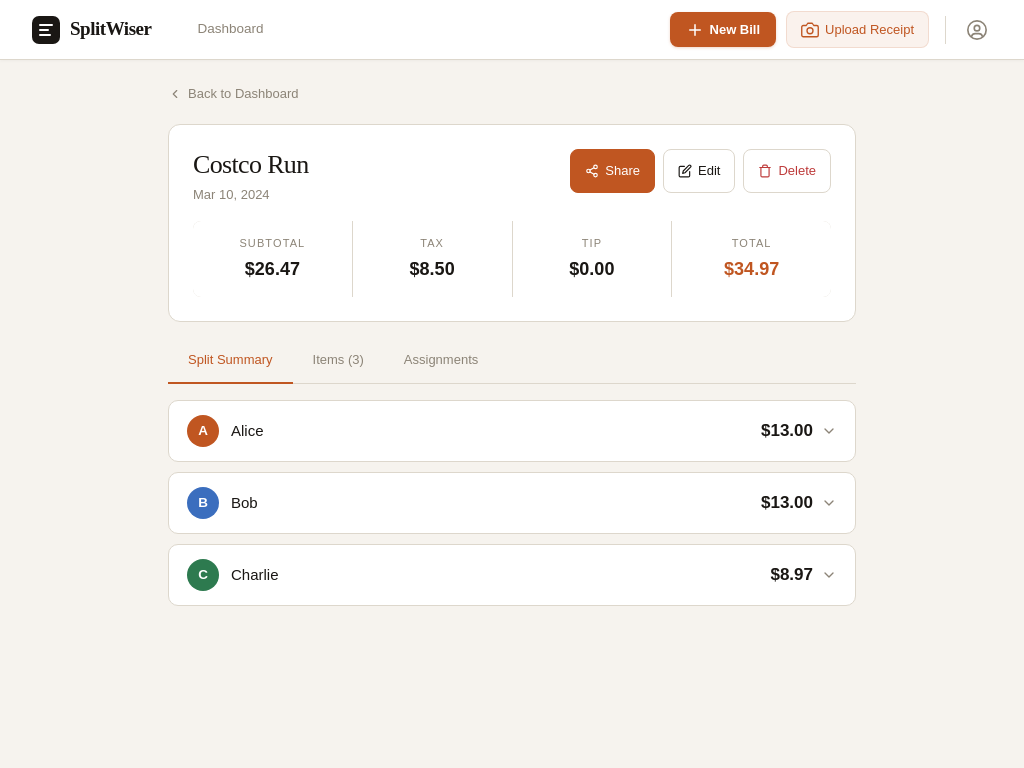
Test: Bill Detail Page › switches to Items tab and shows item list
Check: the heading "Costco Run" is shown, box [193,149,309,181]
// Items tab should show count
Click the button "Items (3)" at {"x": 338, "y": 361}, box [292,338,384,384]
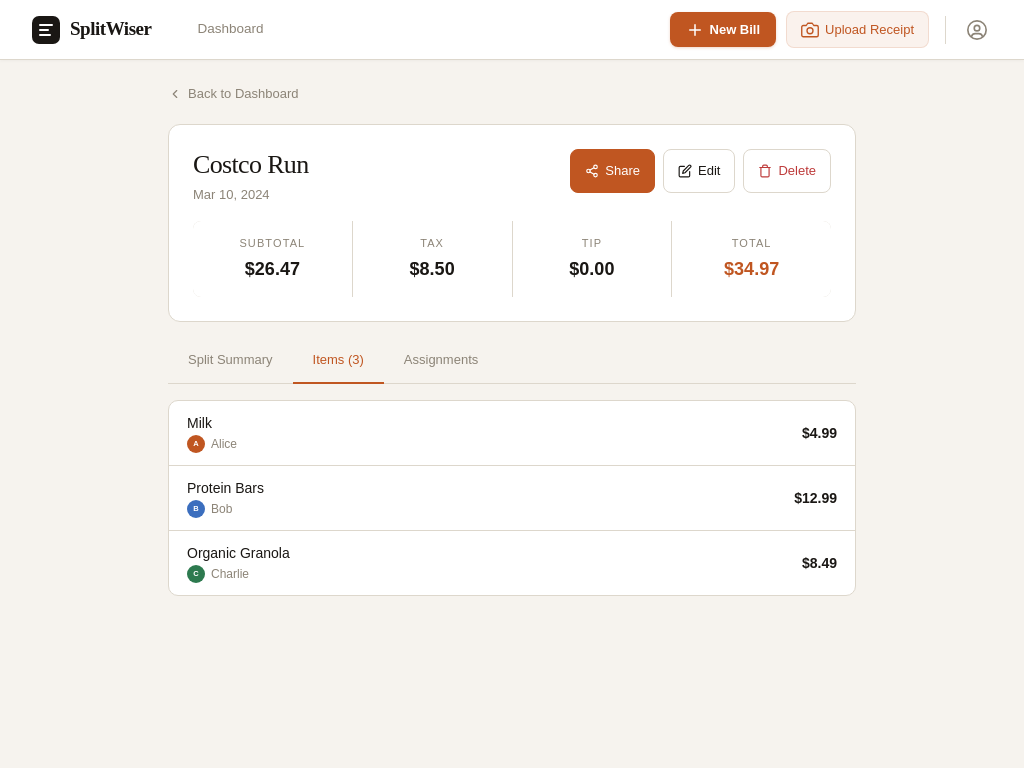
Check: the text "Milk" is shown, box [187,415,212,431]
Check: the text "Protein Bars" is shown, box [187,480,264,496]
Check: the text "Organic Granola" is shown, box [187,545,290,561]
